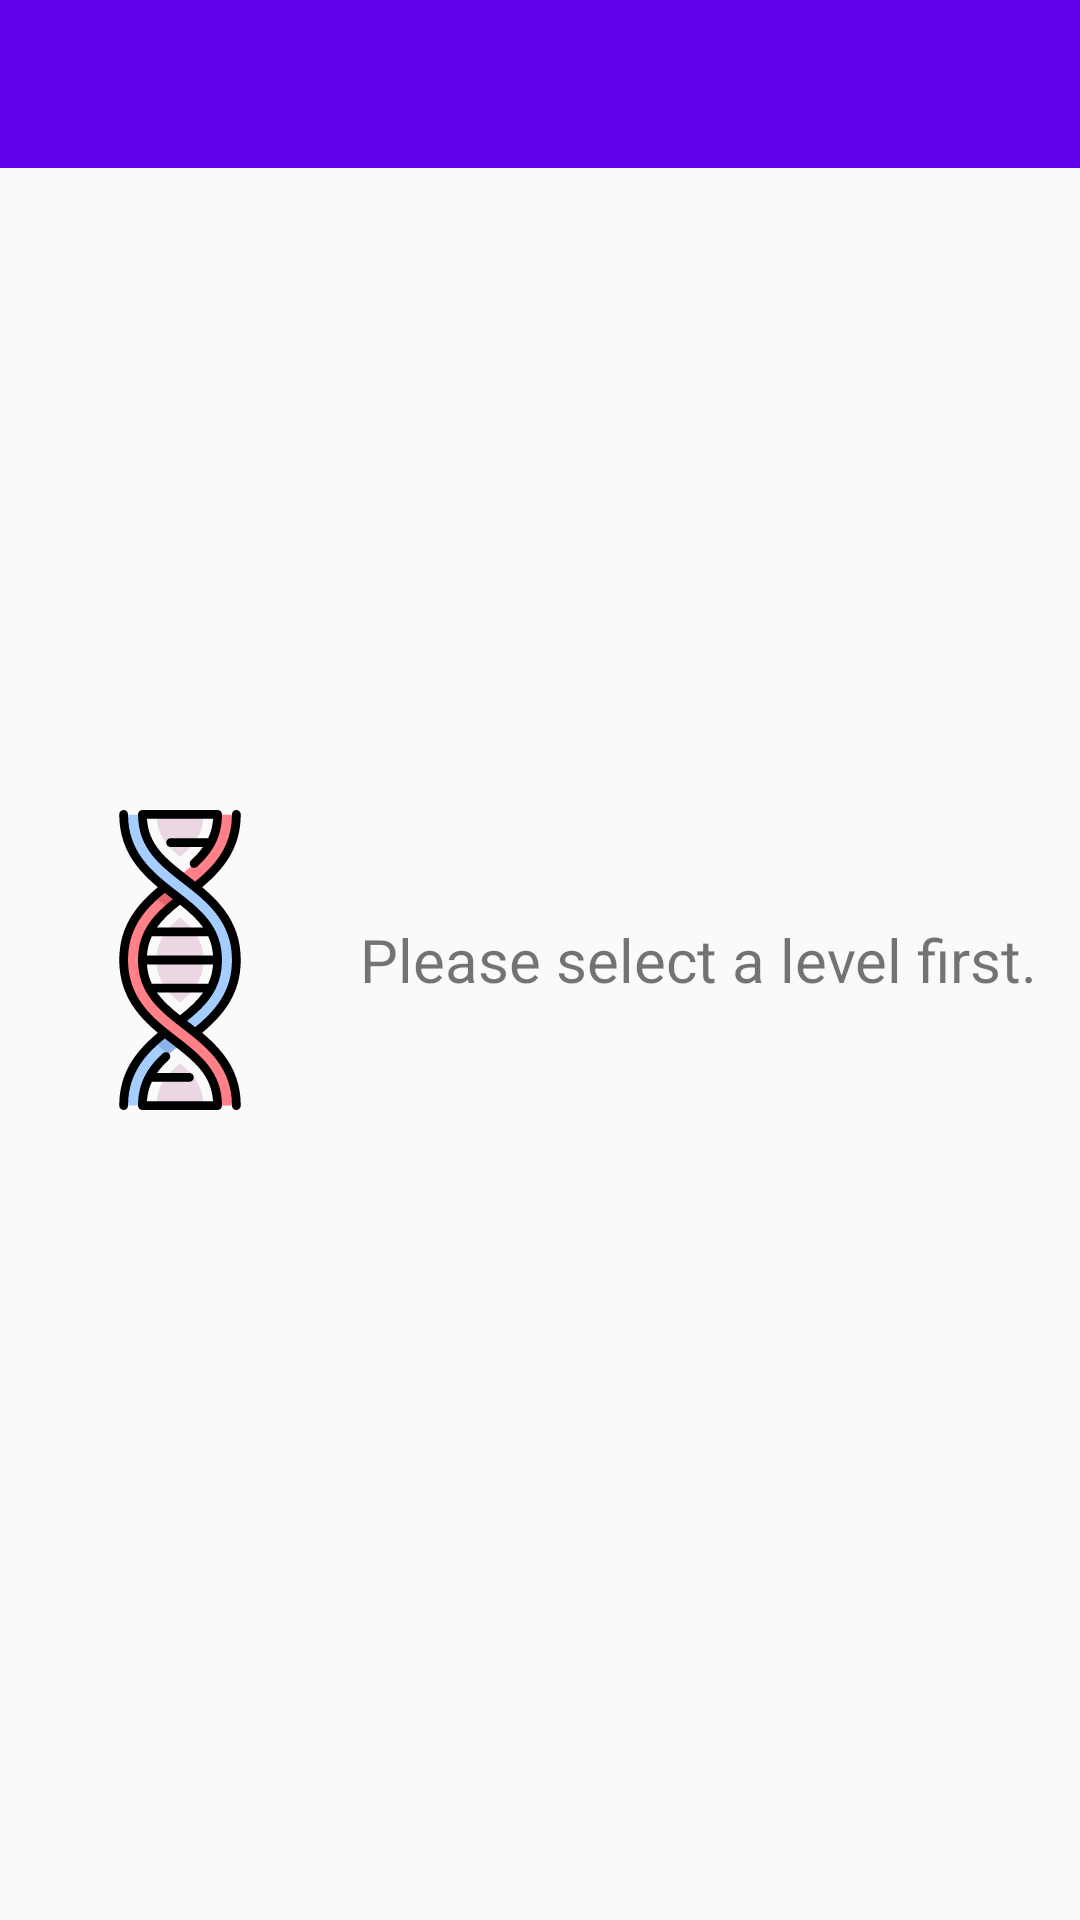

Where to tap for icons on this 1080x1920 app screen, as [x,y]:
dna initiate: [180,960]
